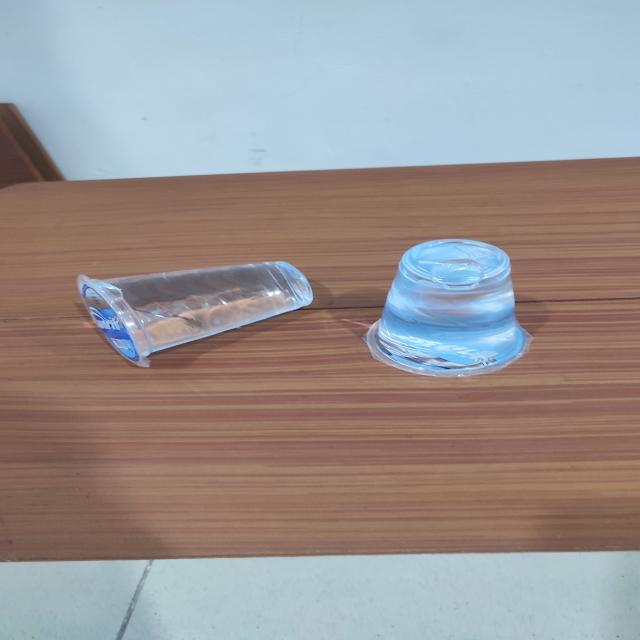air gelas: (57, 257, 331, 367), (352, 234, 547, 384)
